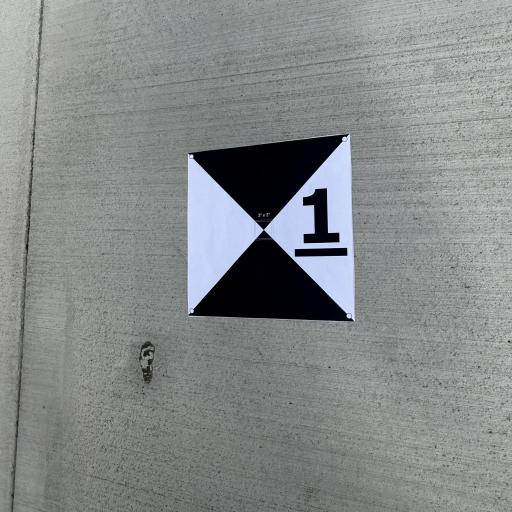target1: (181, 132, 362, 339)
